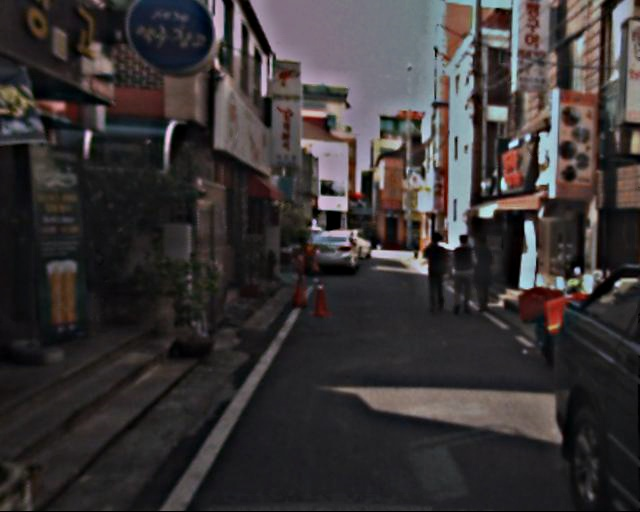person: (421, 233, 456, 318), (446, 234, 480, 316), (468, 236, 501, 316)
